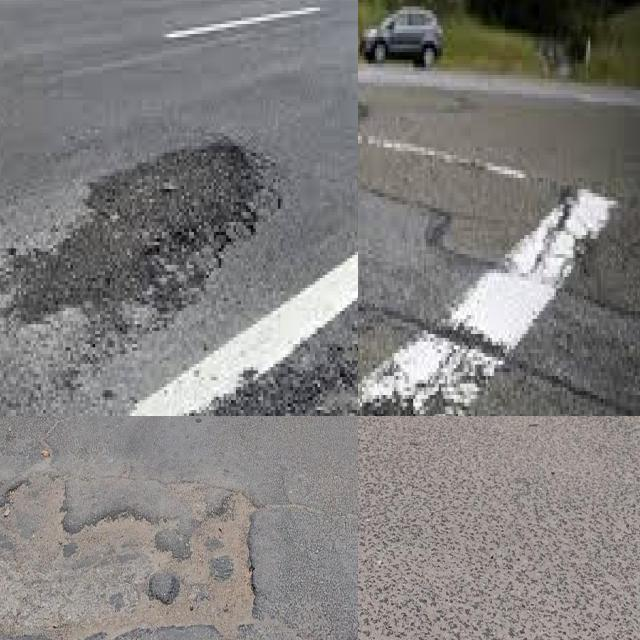Pothole: (0, 143, 261, 364), (148, 480, 258, 640), (51, 505, 163, 640)
